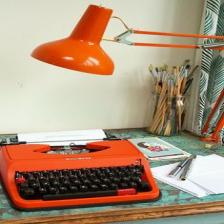orange: (31, 4, 114, 75)
